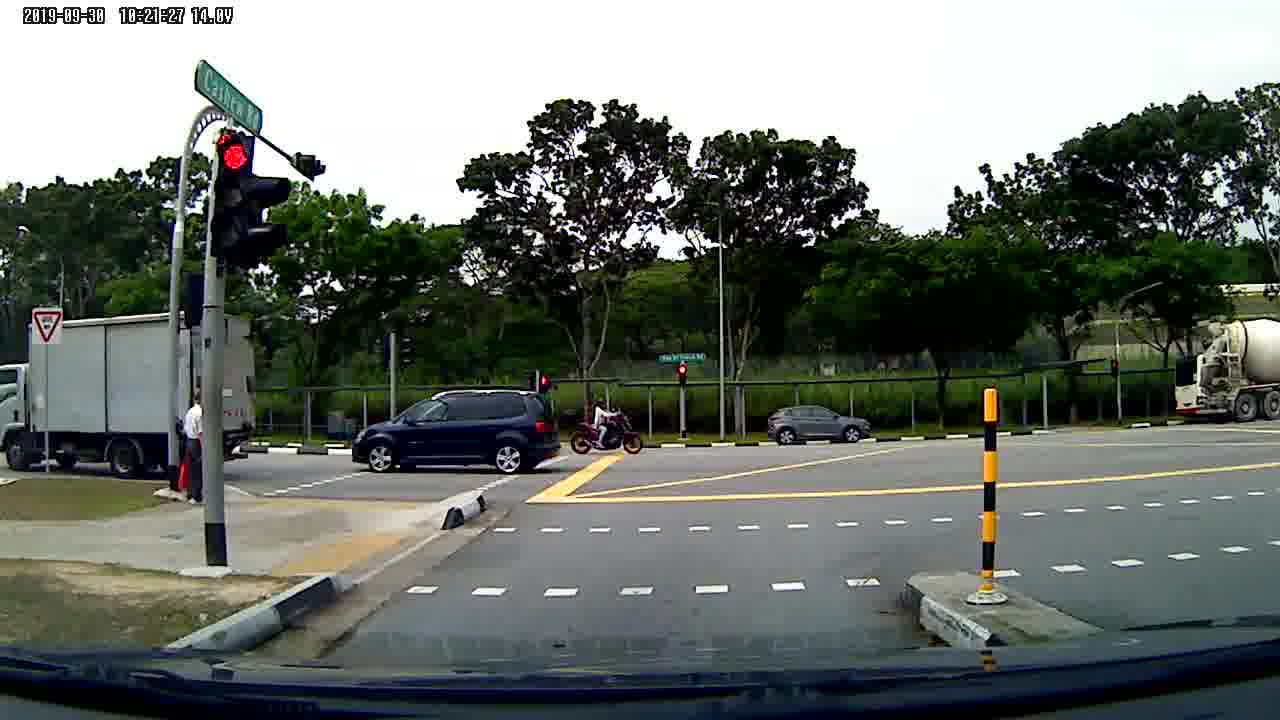car: (351, 390, 563, 473), (764, 399, 873, 448)
